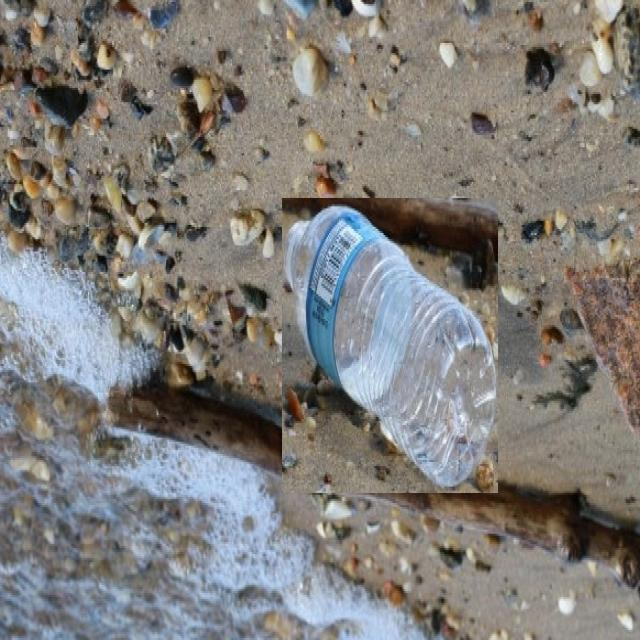Plastic Bottle: (282, 198, 498, 493)
